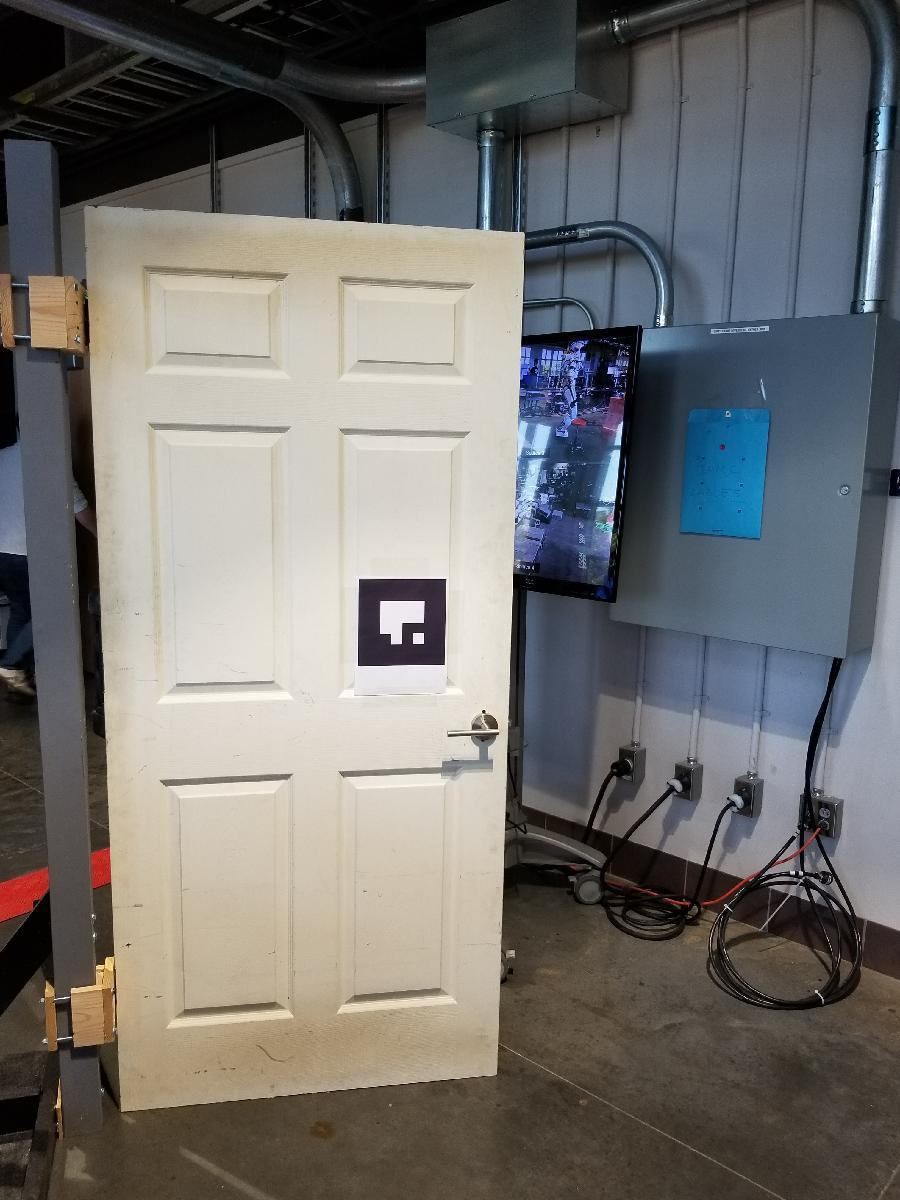door: (85, 203, 506, 1093)
handle: (443, 709, 505, 745)
